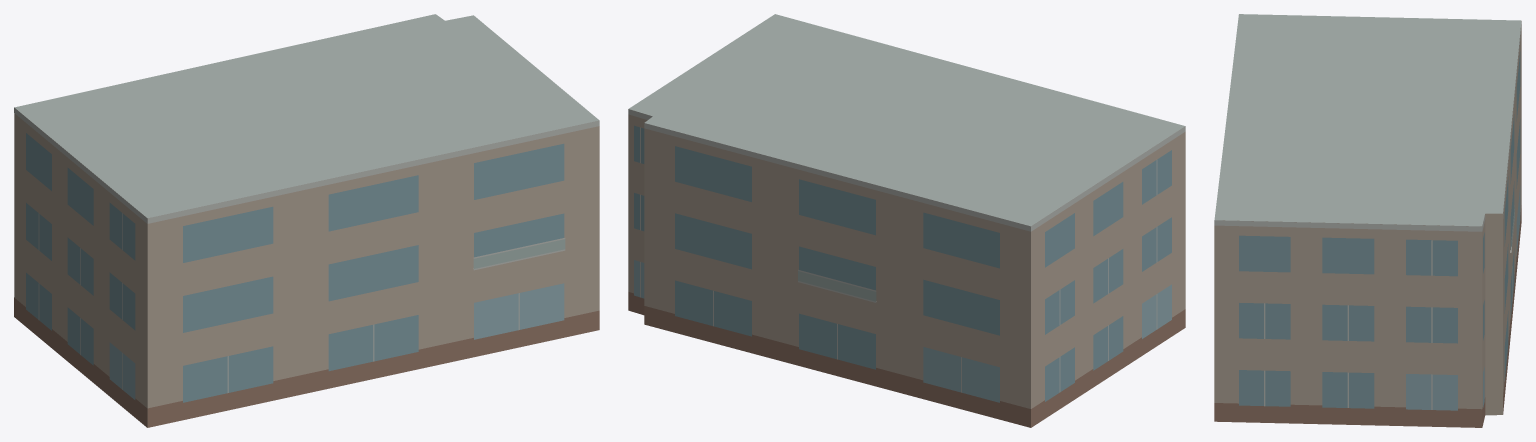
The model's file is survey-upis-32886317.glb.
3 views of the same model, side by side, from view 1: azimuth 30°, elevation 25°; view 2: azimuth 150°, elevation 25°; view 3: azimuth 270°, elevation 25° (orthographic). The views are drawn at different scales.
Parts seen in each view (by area): view 1: survey-upis-32886317.tmp; view 2: survey-upis-32886317.tmp; view 3: survey-upis-32886317.tmp.
Boxes of the visible parts, x1=… form: survey-upis-32886317.tmp: x1=14, y1=14, x2=599, y2=427; survey-upis-32886317.tmp: x1=628, y1=14, x2=1185, y2=427; survey-upis-32886317.tmp: x1=1214, y1=14, x2=1521, y2=427.
Bounding box in the file's own units: 20.7 × 9.15 × 12.65.
